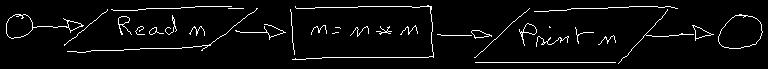arrow: (646, 25, 713, 40), (235, 24, 285, 39), (32, 18, 83, 32), (437, 30, 491, 38)
connection: (718, 14, 762, 48), (6, 14, 32, 38)
data: (474, 6, 677, 63), (64, 6, 257, 52)
process: (290, 5, 433, 59)
text: (519, 23, 615, 46), (118, 15, 204, 35), (311, 25, 417, 36)
